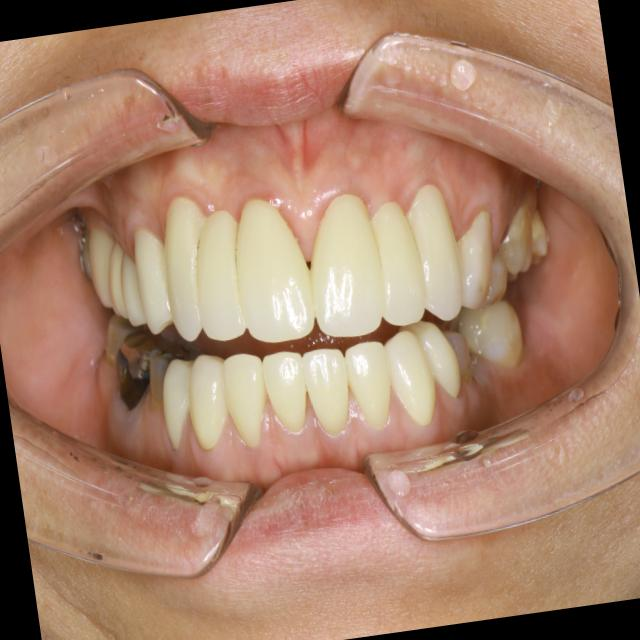tooth: (221, 177, 331, 369), (293, 178, 399, 349), (143, 181, 223, 366), (178, 191, 264, 359), (394, 164, 472, 330), (361, 186, 439, 350), (447, 191, 508, 320), (377, 327, 447, 439), (215, 345, 282, 456), (339, 332, 407, 441), (255, 339, 322, 449), (295, 336, 362, 446), (175, 343, 240, 455), (126, 220, 183, 347), (454, 292, 535, 379), (403, 314, 471, 414), (153, 351, 205, 457), (488, 192, 544, 284), (107, 328, 164, 418), (93, 231, 136, 336), (113, 243, 153, 342), (84, 224, 124, 318), (438, 320, 478, 395), (96, 302, 138, 368), (480, 243, 516, 312), (523, 204, 556, 275), (142, 343, 177, 407), (75, 223, 96, 283)
